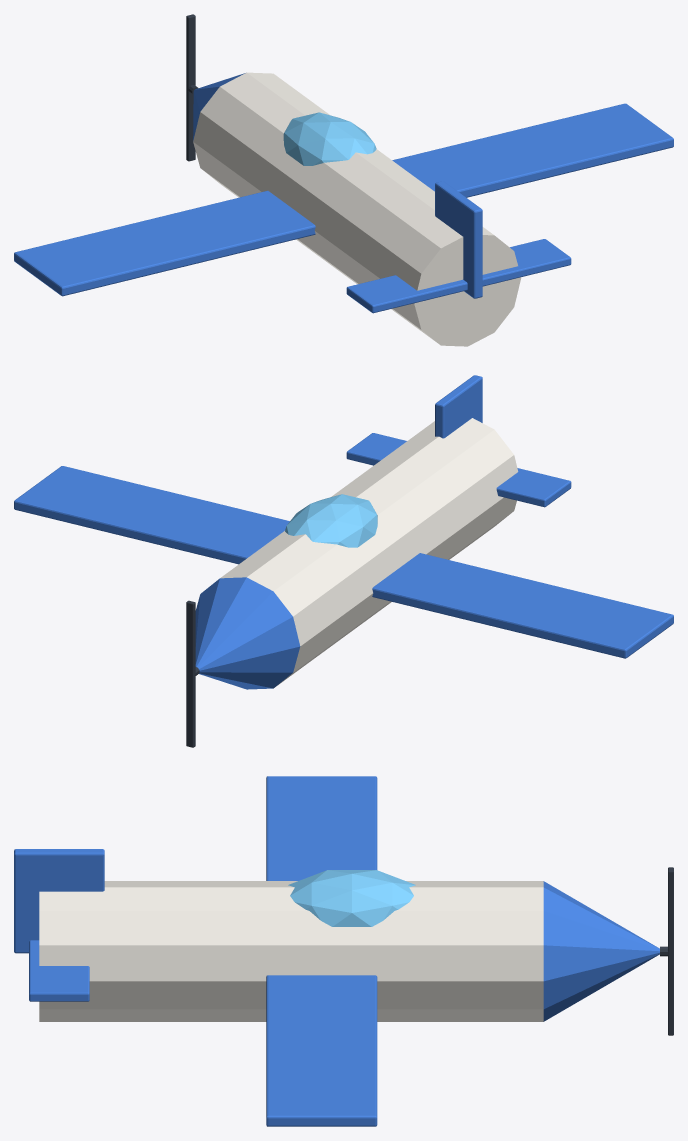
The model's file is Plane_PlaneBlue.fbx.
3 renders of one model, top to bottom at view 1: azimuth 30°, elevation 25°; view 2: azimuth 150°, elevation 25°; view 3: azimuth 270°, elevation 25°, orthographic. The views are drawn at different scales.
Parts seen in each view (by area): view 1: PlaneBlue; view 2: PlaneBlue; view 3: PlaneBlue.
Boxes of the visible parts, x1=… form: PlaneBlue: x1=14, y1=14, x2=673, y2=346; PlaneBlue: x1=14, y1=375, x2=673, y2=747; PlaneBlue: x1=14, y1=776, x2=673, y2=1126.
Size of the model in its own units: 8 by 2 by 6.54.
